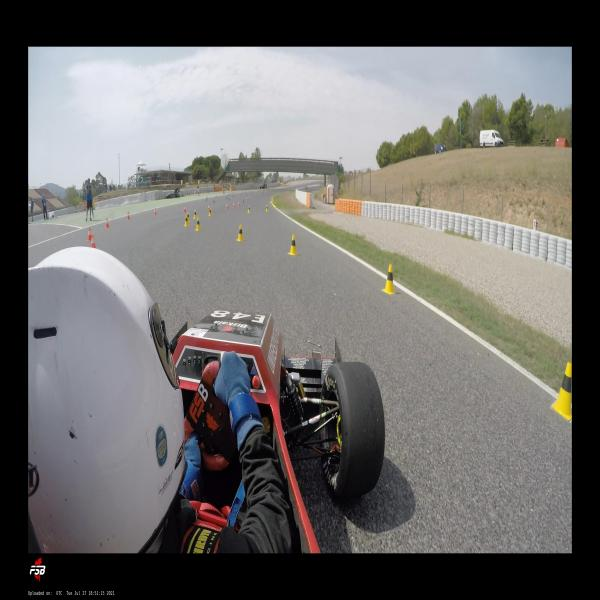orange_cone: (90, 234, 96, 248), (88, 228, 92, 241), (105, 218, 110, 228), (127, 211, 130, 220), (183, 205, 186, 213), (154, 208, 157, 215), (238, 201, 240, 206), (233, 202, 235, 207), (226, 204, 228, 208), (208, 204, 209, 211)
unknown_cone: (213, 199, 215, 204)
yellow_cone: (551, 361, 572, 422), (381, 264, 396, 294), (288, 234, 297, 256), (236, 224, 244, 241), (195, 218, 201, 231), (184, 215, 189, 227), (193, 209, 197, 219), (208, 208, 212, 216), (187, 212, 190, 222), (247, 205, 250, 213), (265, 205, 268, 212), (274, 202, 276, 208), (272, 200, 273, 205)
